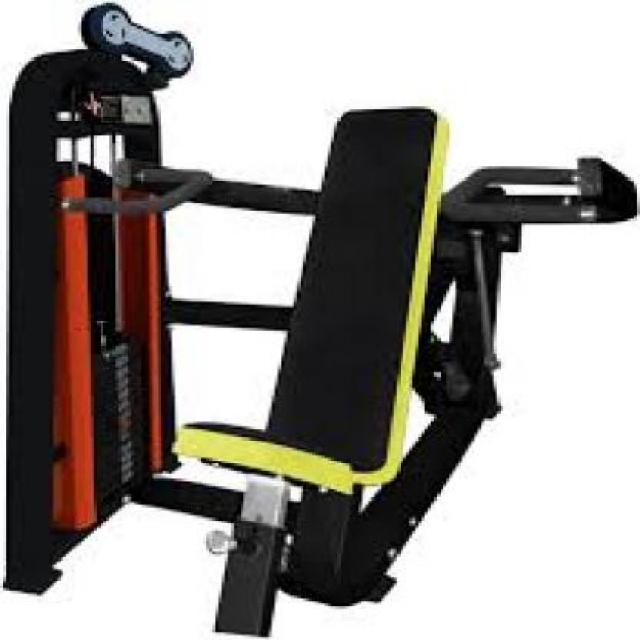shoulder press machine: (6, 3, 640, 637)
